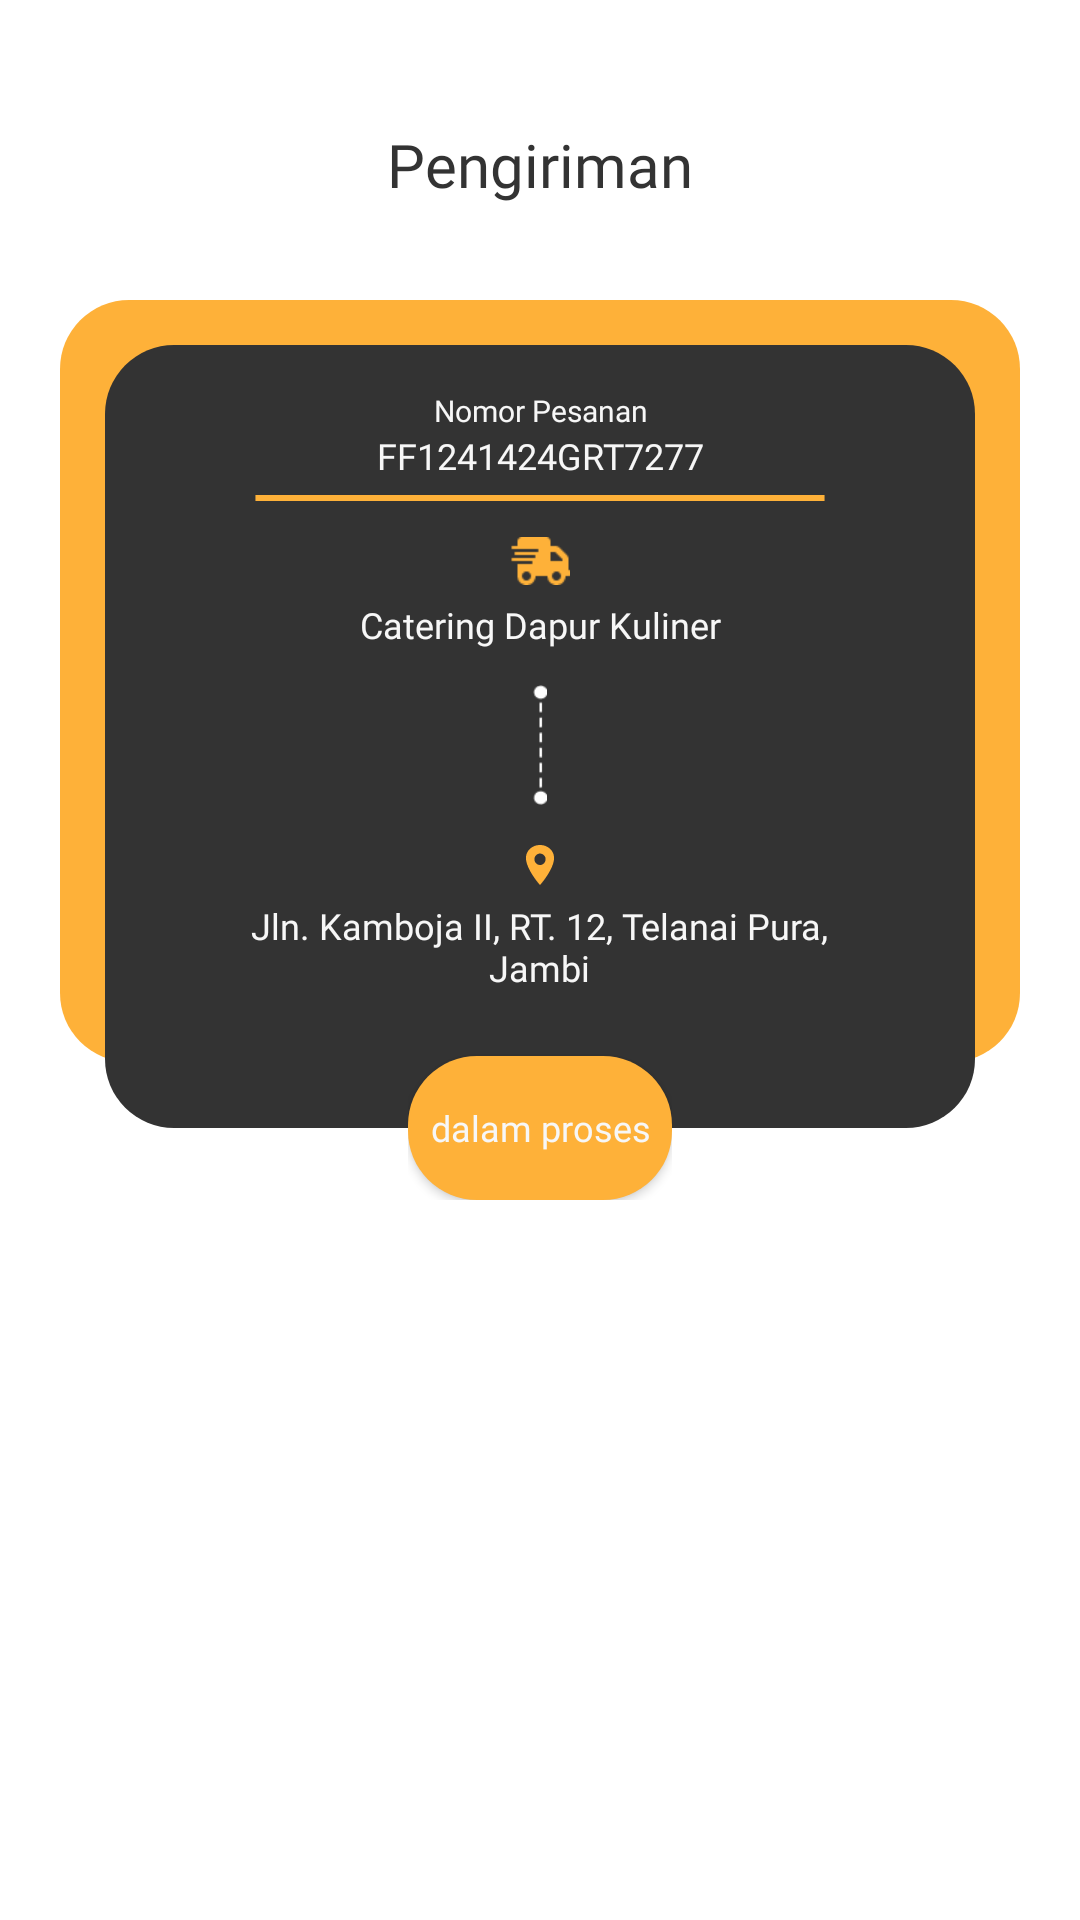

Locate icon controls on the screen. Image size 1080x1920, boxes as bbox=[x1, y1, x2, y2].
alamat: bbox=[526, 845, 554, 885]
mobil: bbox=[511, 537, 570, 585]
